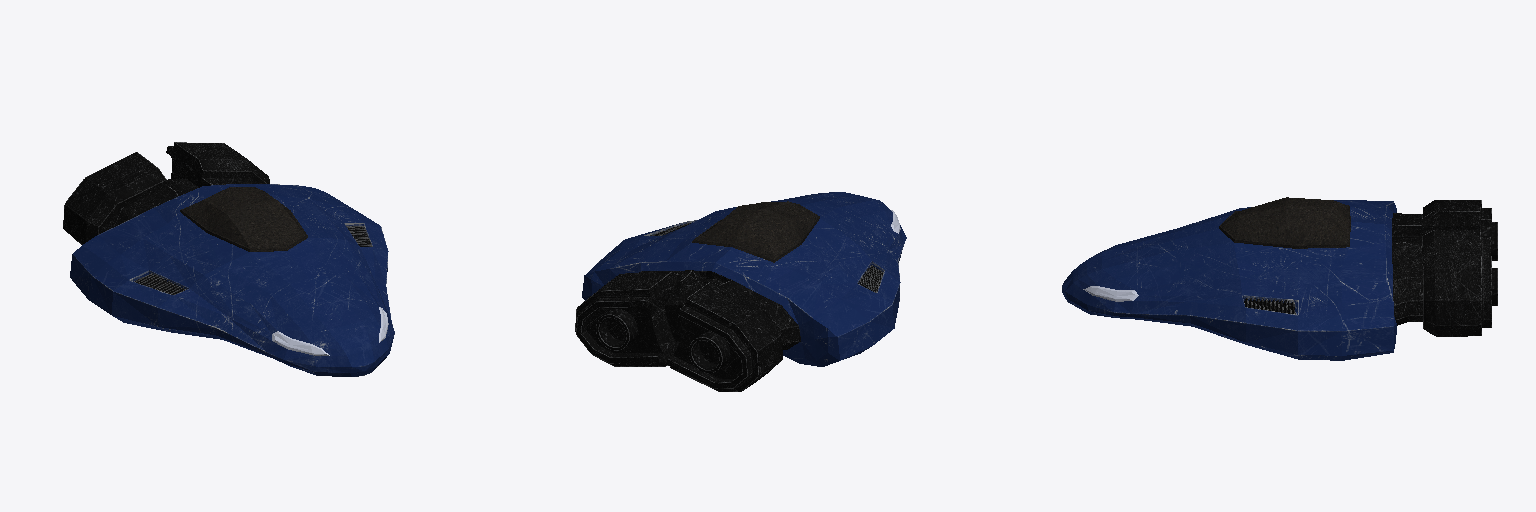
3 views of the same model, side by side, from view 1: azimuth 30°, elevation 25°; view 2: azimuth 150°, elevation 25°; view 3: azimuth 270°, elevation 25° (orthographic).
Visible parts, largest first — view 1: Ship_02:polySurface19; view 2: Ship_02:polySurface19; view 3: Ship_02:polySurface19.
Part boxes in pixels (x1,y1,x2,y2): Ship_02:polySurface19: (63, 142, 394, 376); Ship_02:polySurface19: (575, 192, 906, 391); Ship_02:polySurface19: (1062, 197, 1497, 360).
Bounding box in the file's own units: 9.73 × 3.41 × 13.46.
1 materials, 1 textured.